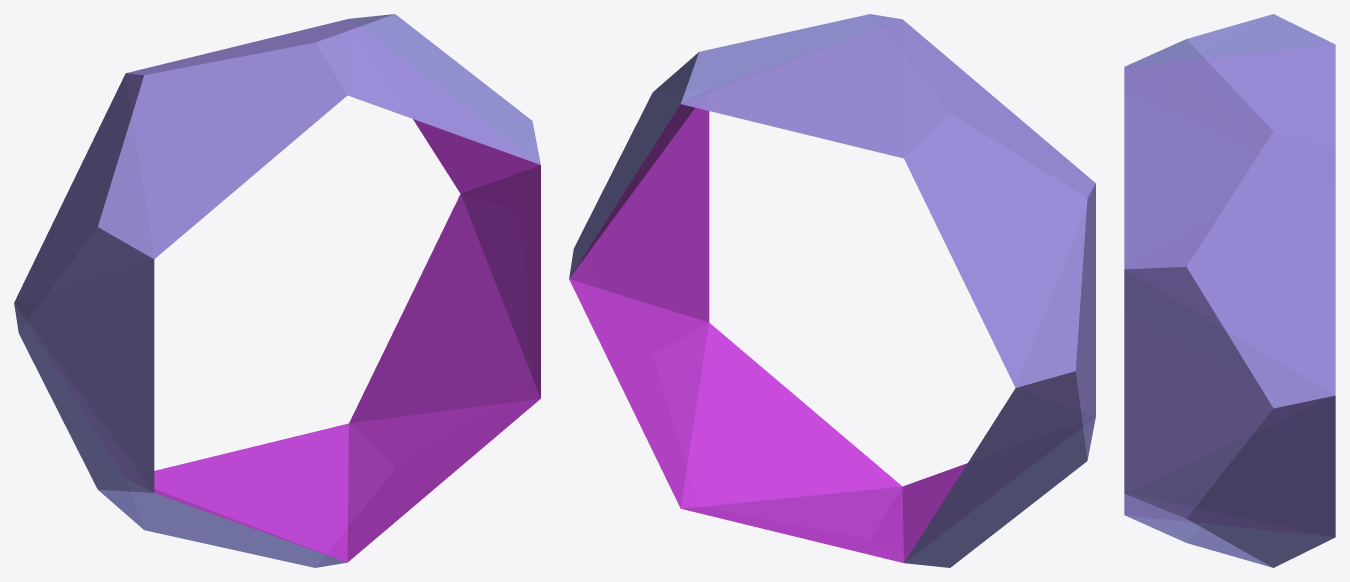
File: HexagonalTrapezohedronAntiprismToroid.obj
3 renders of one model, left to right at view 1: azimuth 30°, elevation 25°; view 2: azimuth 150°, elevation 25°; view 3: azimuth 270°, elevation 25°, orthographic. The views are drawn at different scales.
Size of the model in its own units: 4.5 by 4.5 by 1.71.
